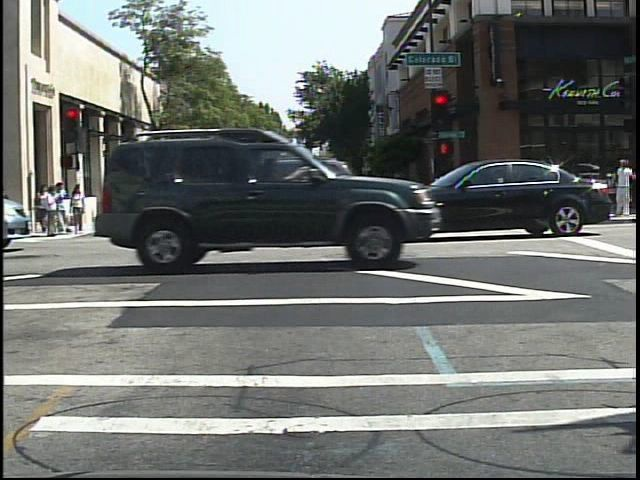person: (614, 156, 637, 220), (164, 180, 182, 221)
